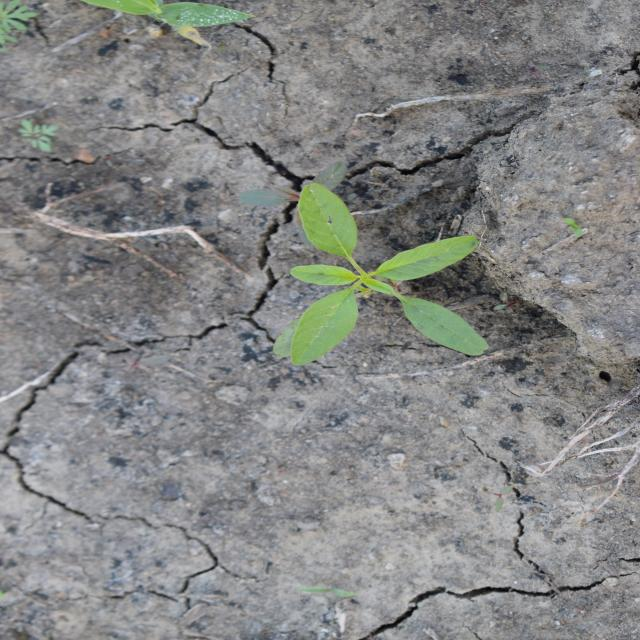Ragweed: (2, 1, 42, 50), (17, 116, 59, 157)
Waterhemp: (272, 180, 491, 367), (233, 160, 349, 250)
